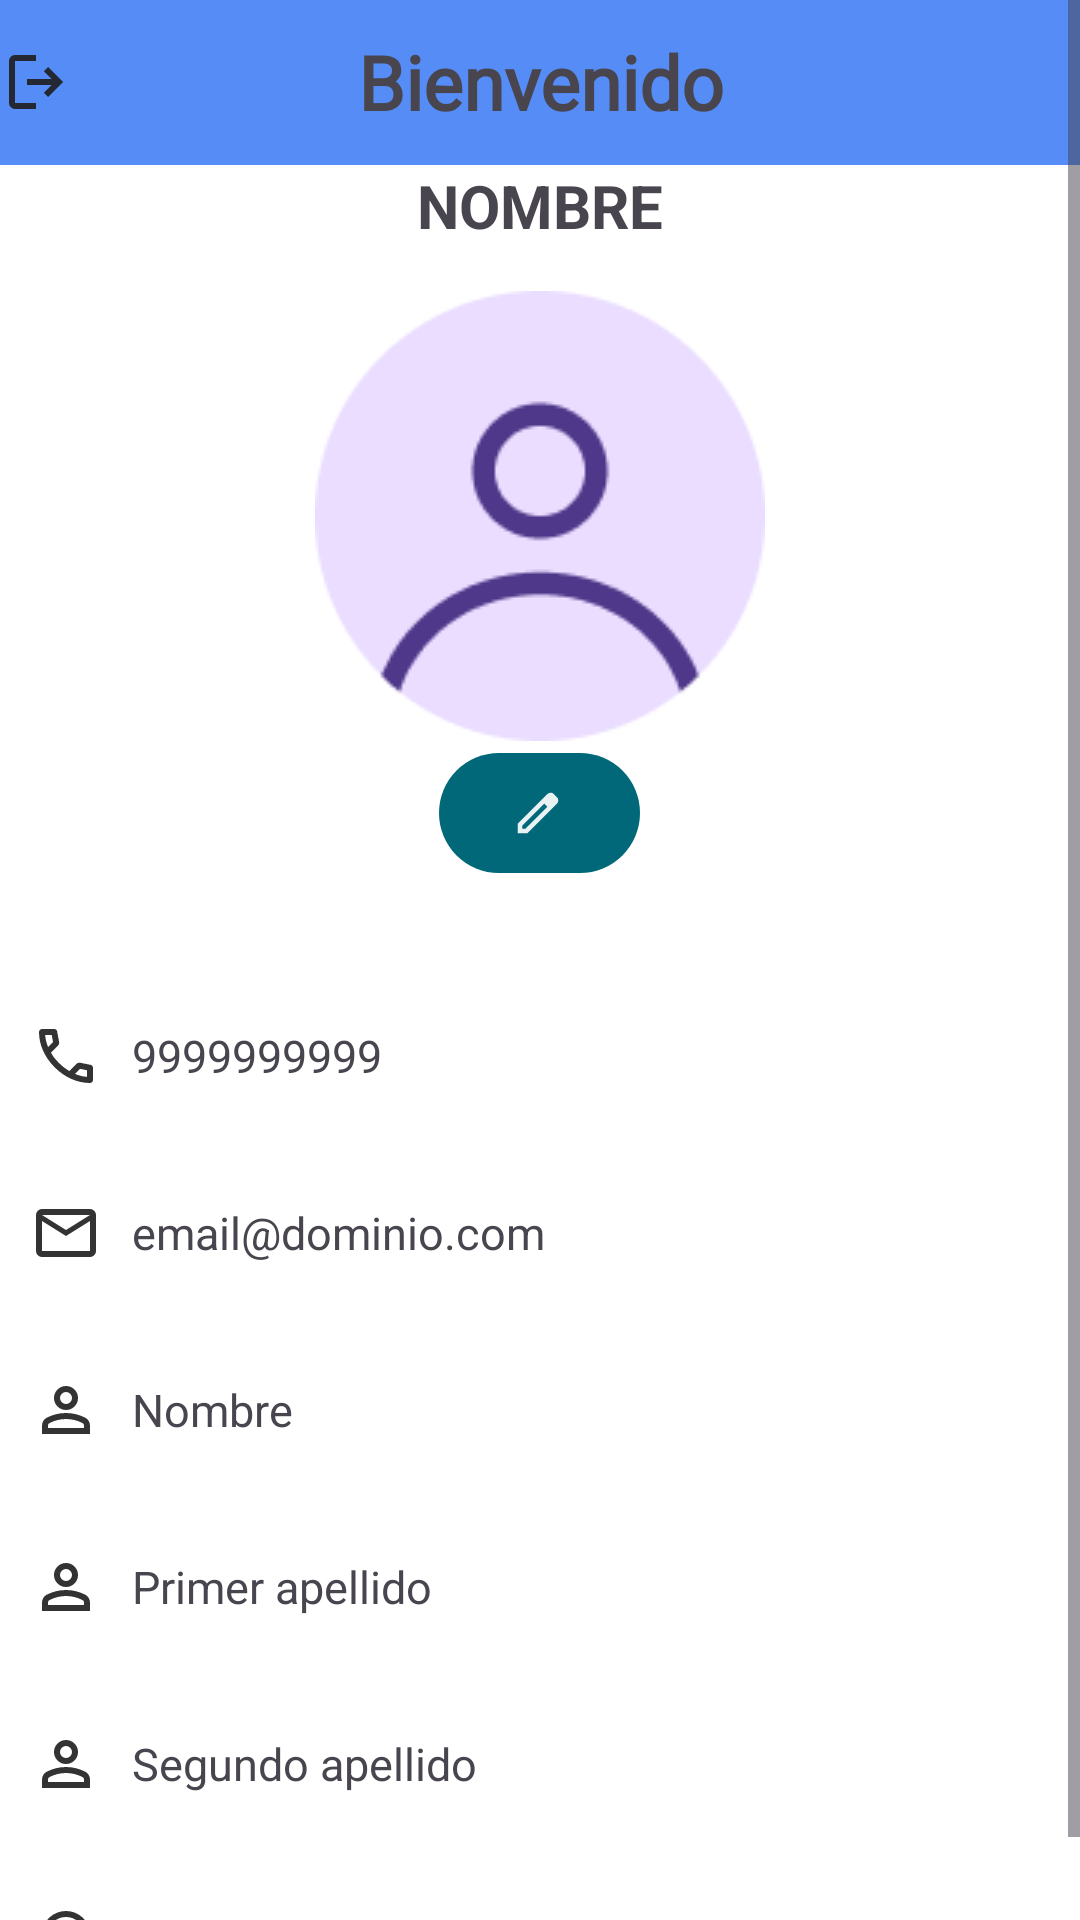

Icon bounding boxes for this 1080px×1920px phone screenshot, format [x1, y1, x2, y2]:
cel: [39, 1029, 93, 1083]
edit: [439, 753, 640, 873]
